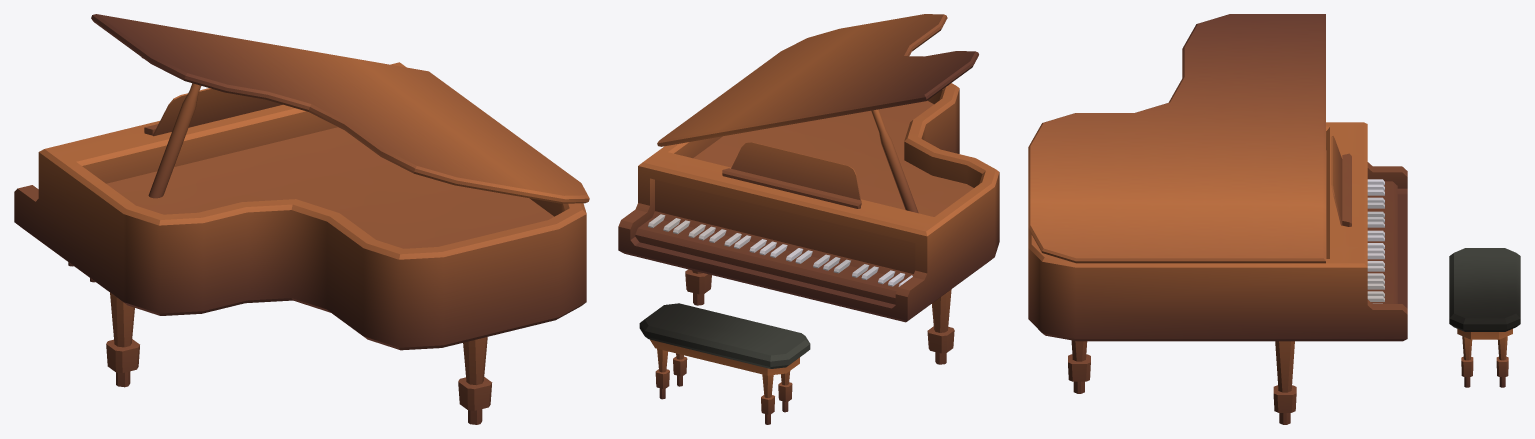
The model's file is Piano_geo.fbx.
3 renders of one model, left to right at view 1: azimuth 30°, elevation 25°; view 2: azimuth 150°, elevation 25°; view 3: azimuth 270°, elevation 25°, orthographic. The views are drawn at different scales.
Parts seen in each view (by area): view 1: Piano_geo; view 2: Piano_geo; view 3: Piano_geo.
Part boxes in pixels (bbox=[...]): Piano_geo: bbox=[14, 14, 589, 424]; Piano_geo: bbox=[618, 14, 999, 424]; Piano_geo: bbox=[1028, 14, 1520, 424].
Bounding box in the file's own units: 123 × 114 × 177.
